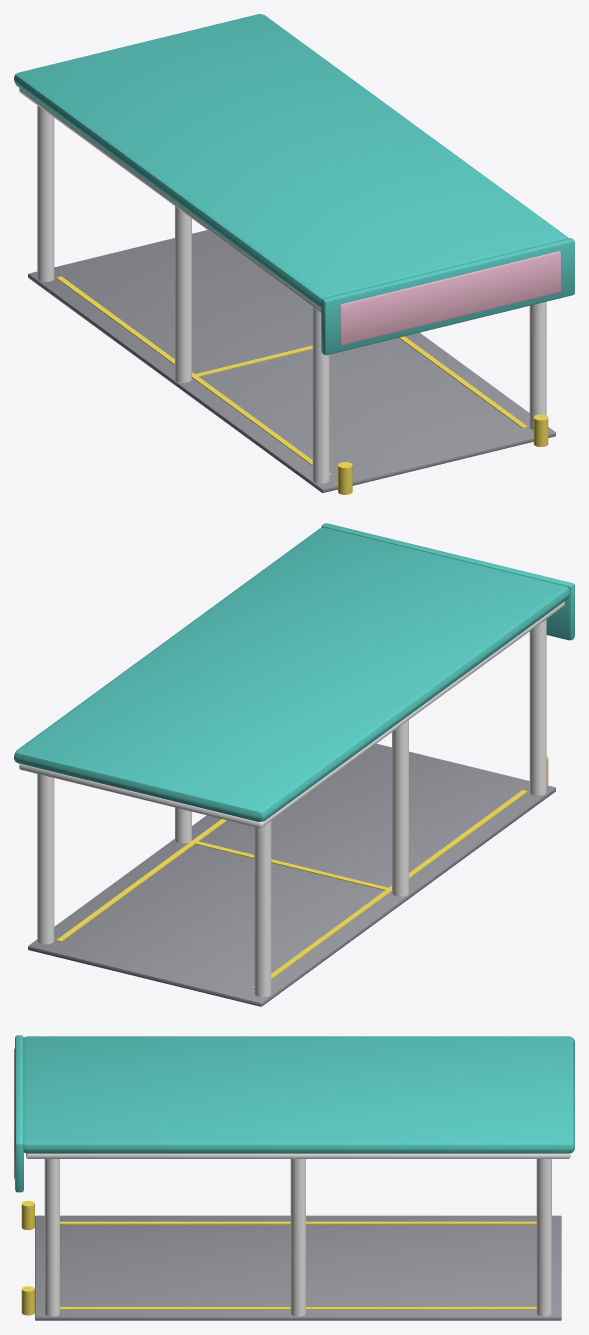
File: carport_ambulans.fbx
3 renders of one model, top to bottom at view 1: azimuth 30°, elevation 25°; view 2: azimuth 150°, elevation 25°; view 3: azimuth 270°, elevation 25°, orthographic. The views are drawn at different scales.
Parts seen in each view (by area): view 1: AmTeal, AmFloor, AmWhite, AmPink, AmYellow; view 2: AmTeal, AmFloor, AmWhite, AmYellow; view 3: AmTeal, AmFloor, AmWhite, AmYellow.
Part boxes in pixels (x1,y1,x2,y2): AmTeal: (14,14,574,355); AmFloor: (28,230,555,492); AmWhite: (19,88,546,483); AmPink: (340,251,560,345); AmYellow: (56,276,548,494); AmTeal: (14,523,574,821); AmFloor: (28,743,555,1006); AmWhite: (19,601,564,997); AmYellow: (56,756,548,988); AmTeal: (15,1035,574,1192); AmFloor: (35,1215,561,1320); AmWhite: (26,1153,570,1316); AmYellow: (21,1200,536,1315).
Bounding box in the file's own units: 11.8 × 9.1 × 25.55.
